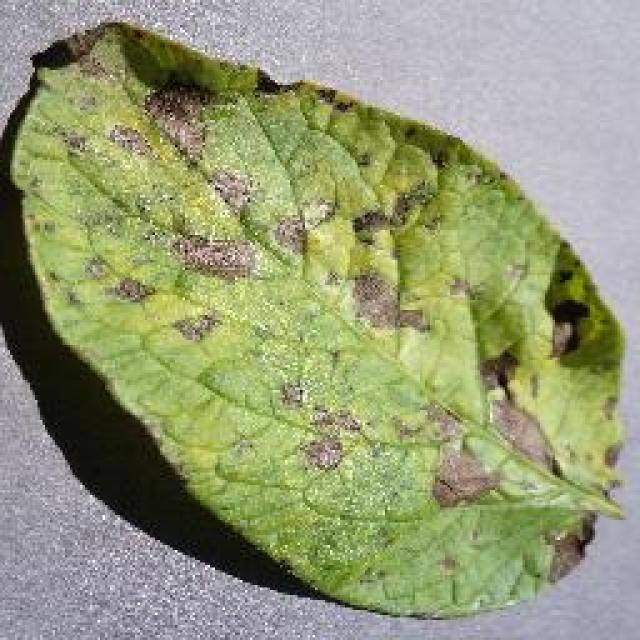Potato: (0, 18, 628, 620)
